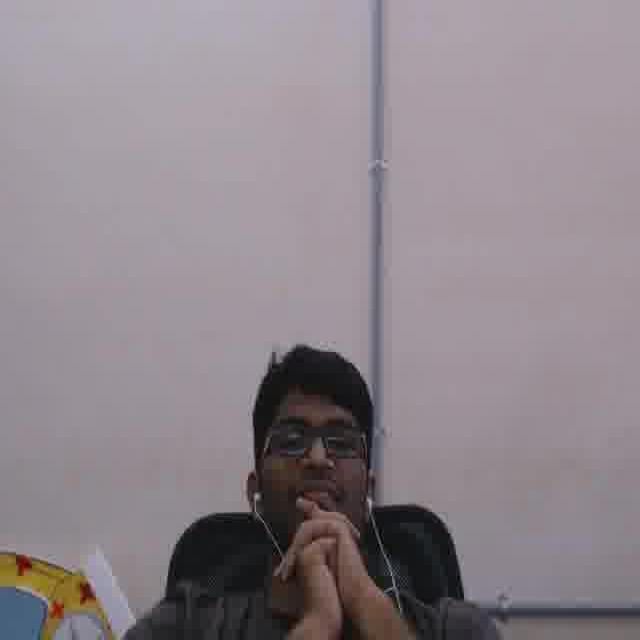Boredom: (263, 384, 364, 545)
